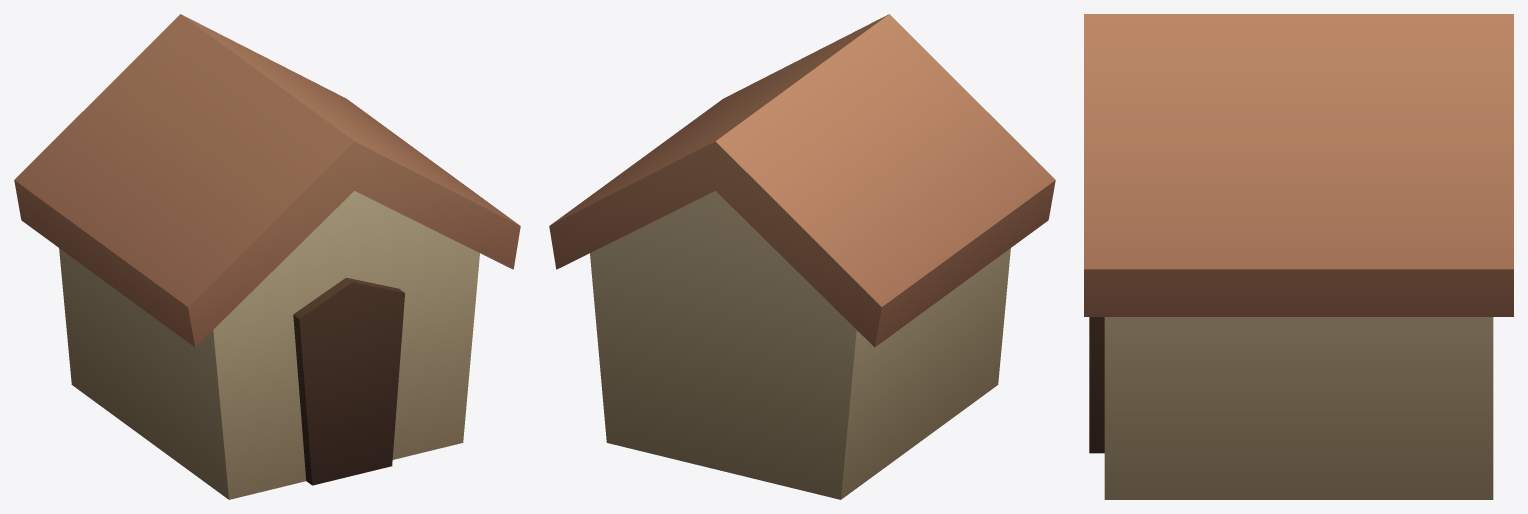
Rendered from SM_House_Small.fbx.
3 renders of one model, left to right at view 1: azimuth 30°, elevation 25°; view 2: azimuth 150°, elevation 25°; view 3: azimuth 270°, elevation 25°, orthographic. The views are drawn at different scales.
Parts seen in each view (by area): view 1: House_Small; view 2: House_Small; view 3: House_Small.
Boxes of the visible parts, x1,y1,x2,y2 form: House_Small: [14, 14, 520, 499]; House_Small: [549, 14, 1055, 499]; House_Small: [1084, 14, 1513, 499].
Bounding box in the file's own units: 165 × 160 × 150.
